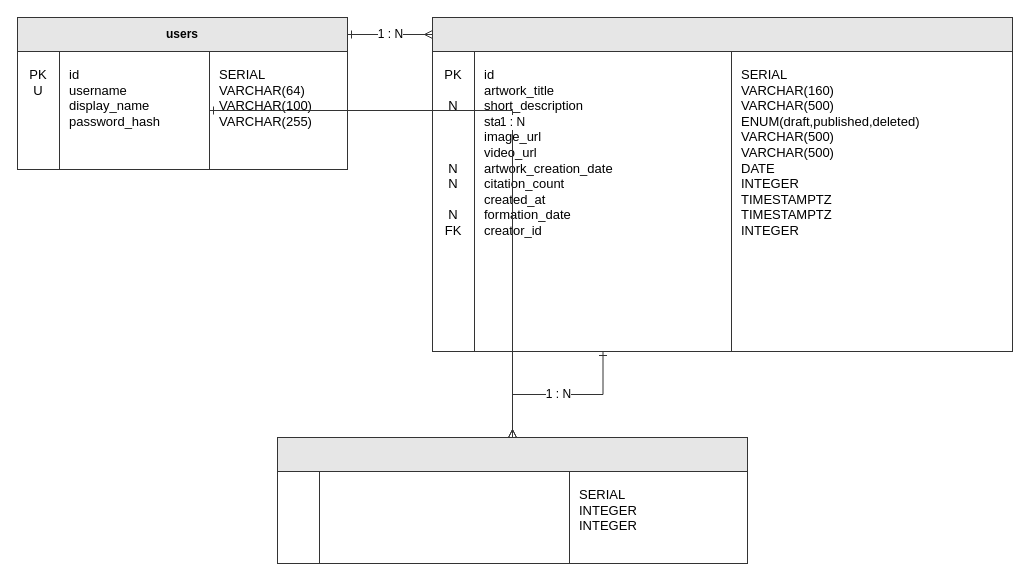
The diagram is 1030 pixels wide and 581 high, and some of its shapes have lost their labels. Here are the shapes that lost their labels. From the top down, the centre of each, then its label:
[722,34]: artwork_excerpts
[512,454]: artwork_excerpt_likes
[298,517]: PK FK FK
[444,517]: id user_id artwork_excerpt_id
